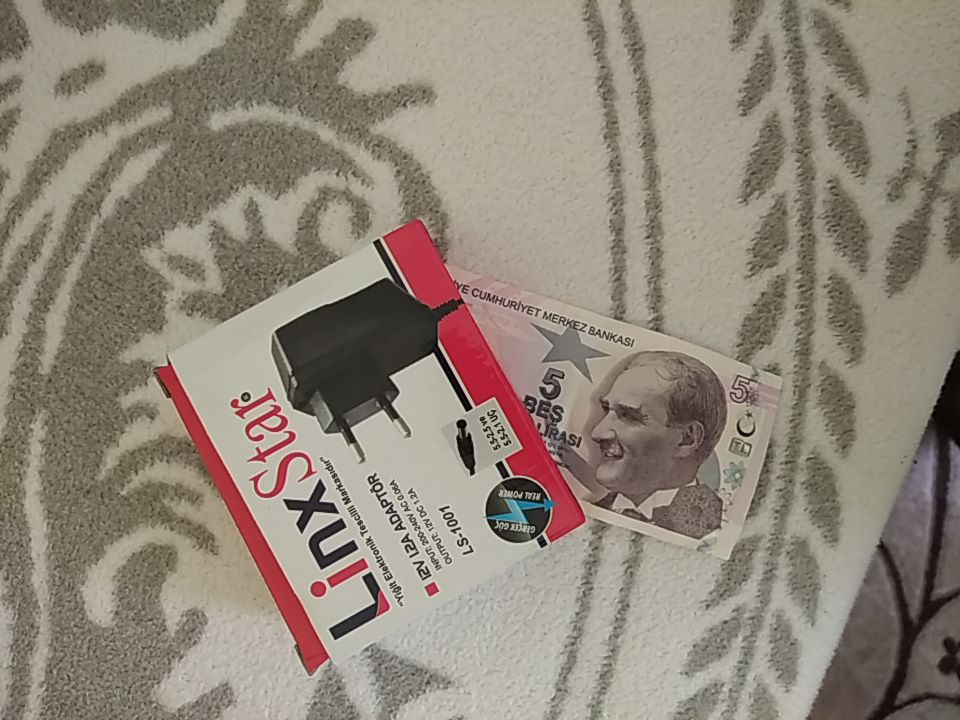5TL: (436, 263, 783, 562)
